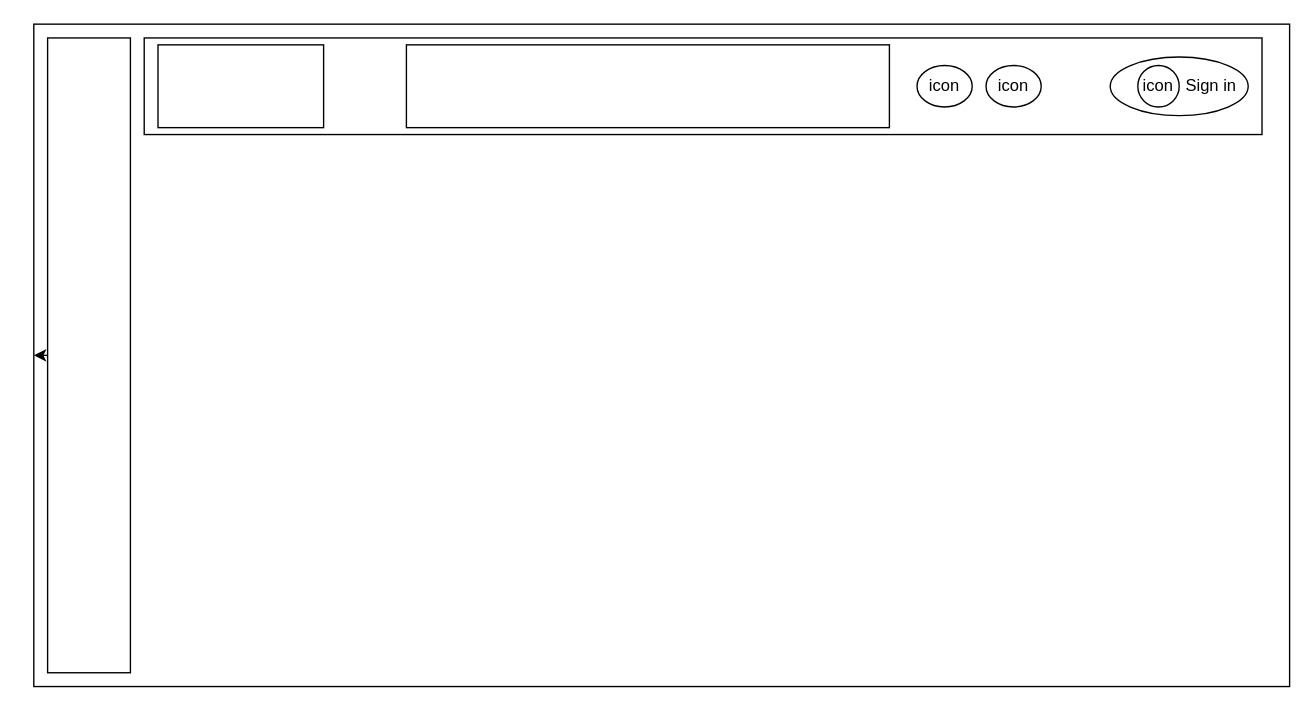
This 1314x711 diagram has some shape labels left out. The centre of each missing label's shape, as x and y in pixels:
input tag: the point at 647,85
Logo: the point at 240,85
